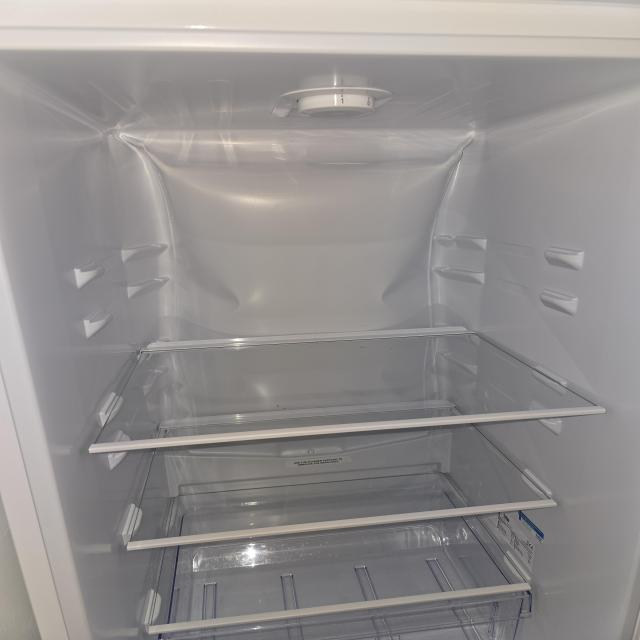fridge-space: (89, 296, 599, 417), (150, 447, 490, 512), (148, 531, 378, 616), (380, 522, 515, 594)
